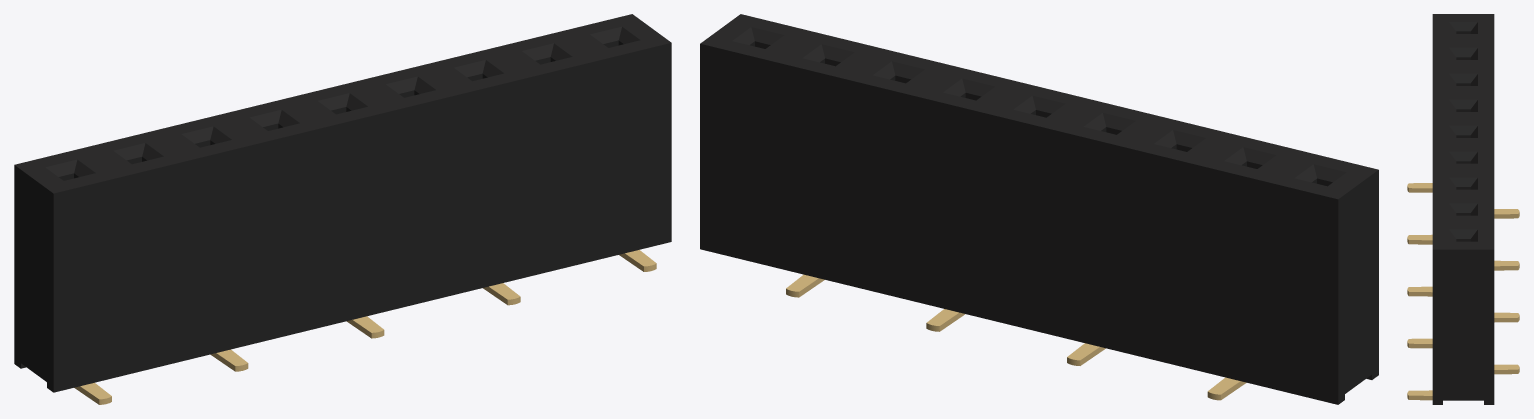
3 renders of one model, left to right at view 1: azimuth 30°, elevation 25°; view 2: azimuth 150°, elevation 25°; view 3: azimuth 270°, elevation 25°, orthographic. The views are drawn at different scales.
Parts seen in each view (by area): view 1: =>[0:1:1:3]; view 2: =>[0:1:1:3]; view 3: =>[0:1:1:3].
Boxes of the visible parts, bbox=[...] form: =>[0:1:1:3]: bbox=[14, 14, 671, 404]; =>[0:1:1:3]: bbox=[700, 14, 1378, 404]; =>[0:1:1:3]: bbox=[1407, 14, 1519, 404].
Bounding box in the file's own units: 0.0231 × 0.0074 × 0.00464.
